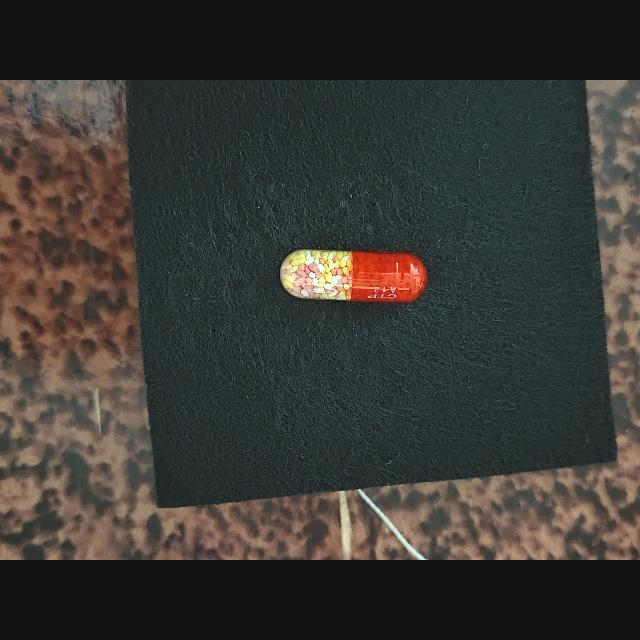Intact Capsule: (280, 249, 427, 303)
